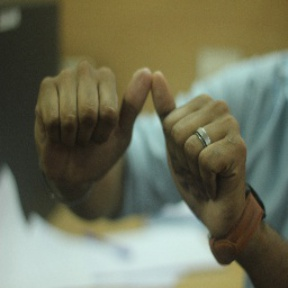A: (59, 56, 240, 186)
